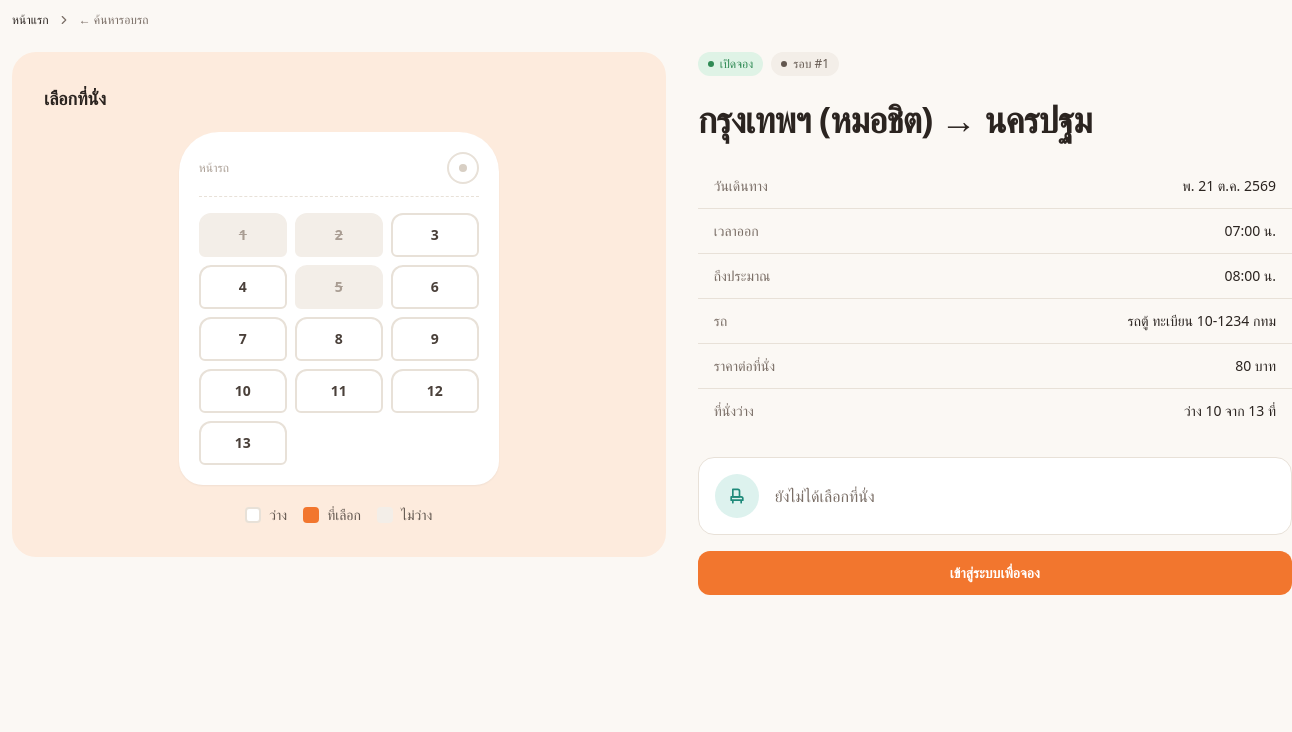
ผังที่นั่ง: ที่ไม่ว่างกดไม่ได้ กดที่ว่างแล้วเลือก/เลิกเลือกได้ และรวมราคาให้
Expected: the heading "กรุงเทพฯ (หมอชิต) → นครปฐม" is shown, [698,95,1092,144]
Expected: the button named "ที่นั่ง 5 ไม่ว่าง" is disabled, [295,265,383,309]
Click the button named "ที่นั่ง 7".
click(243, 339)  # box [199,317,287,361]
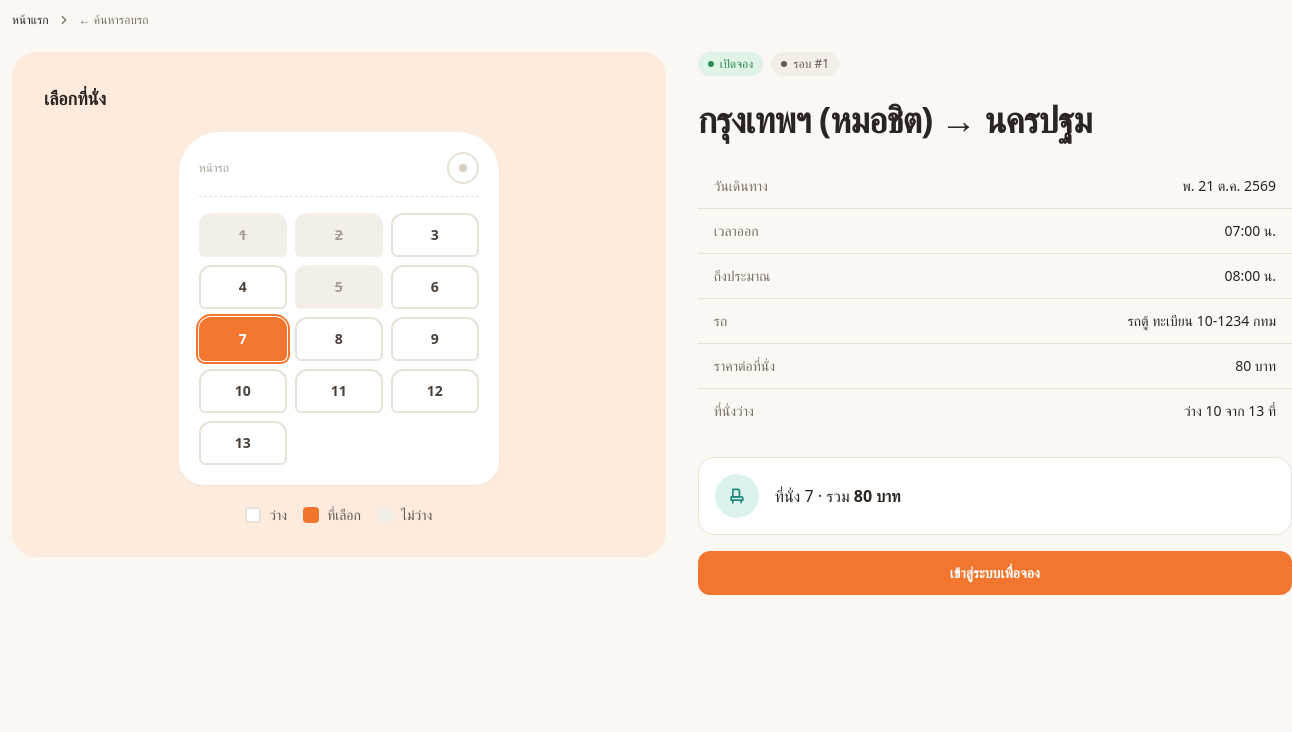
Click the button named "ที่นั่ง 4".
click(243, 287)  # box [199,265,287,309]
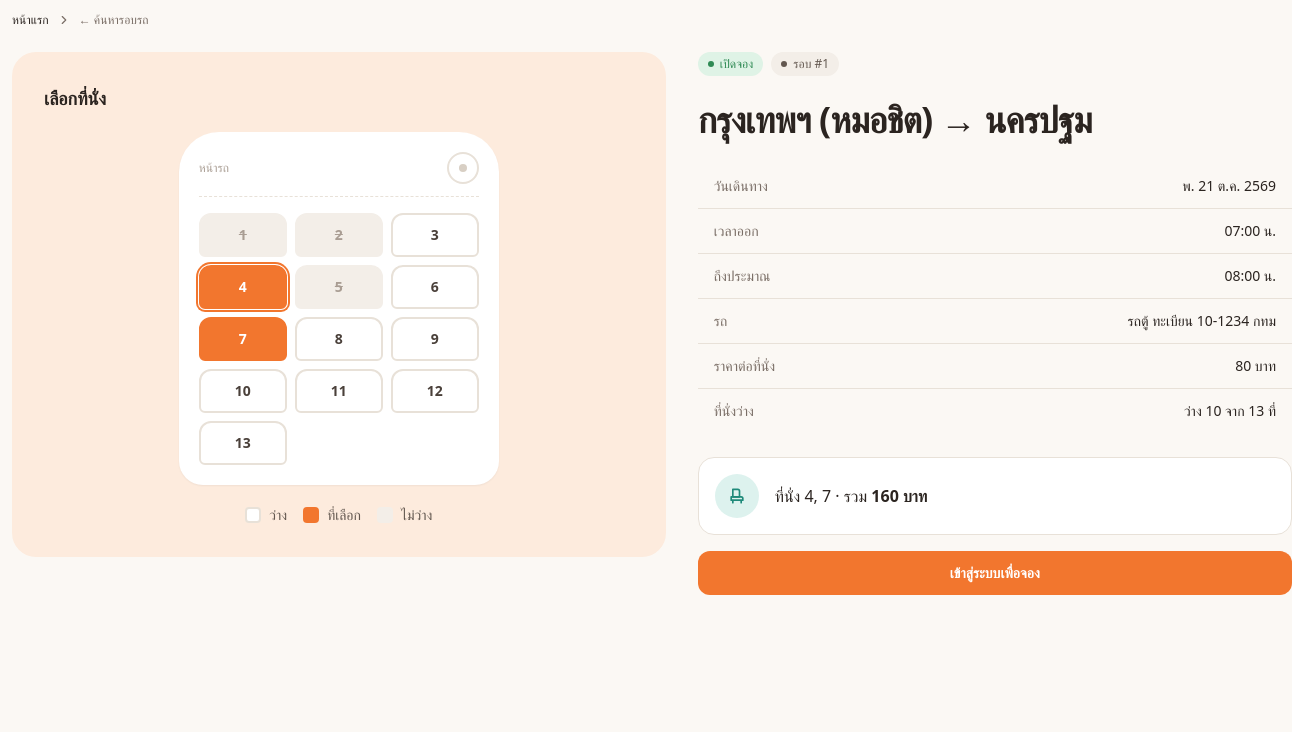
Result: the text "ที่นั่ง 4, 7 · รวม 160 บาท" is shown at [775,484,927,508]
Click the button named "ที่นั่ง 4".
click(243, 287)  # box [199,265,287,309]
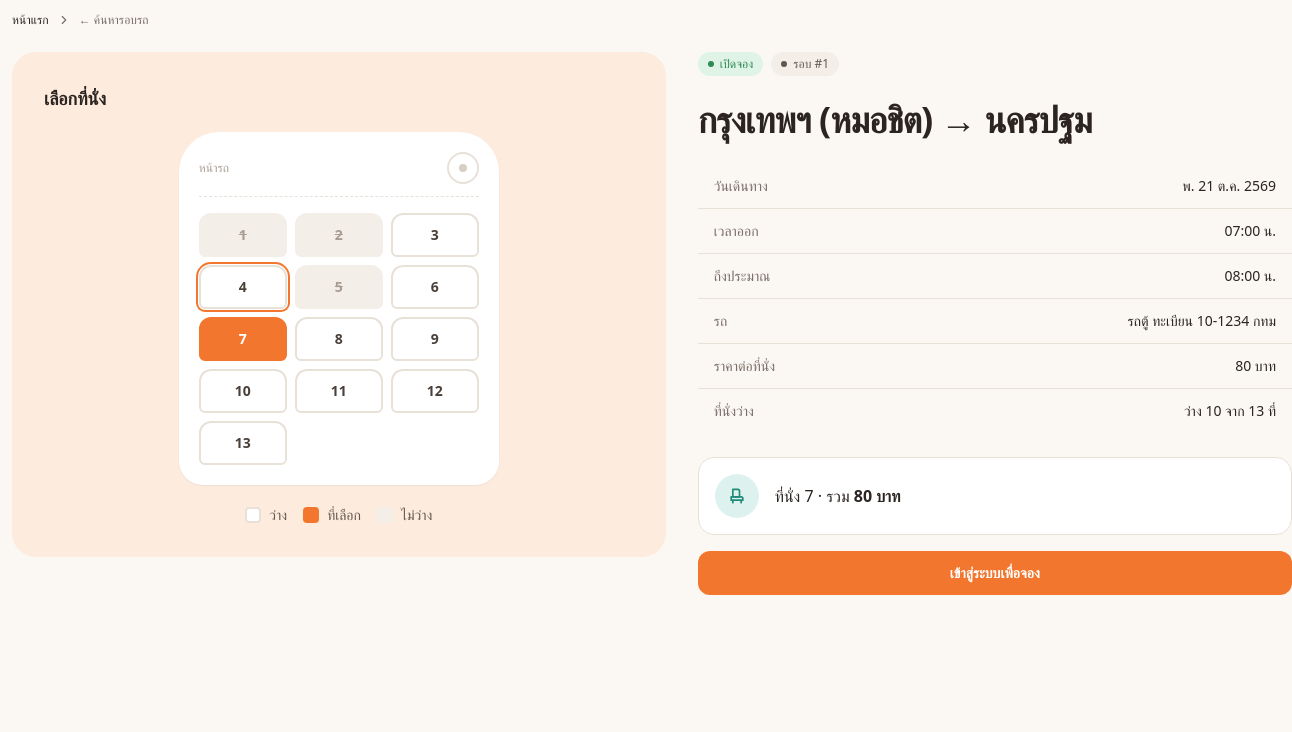
Result: the text "ที่นั่ง 7 · รวม 80 บาท" is shown at [775,484,900,508]
